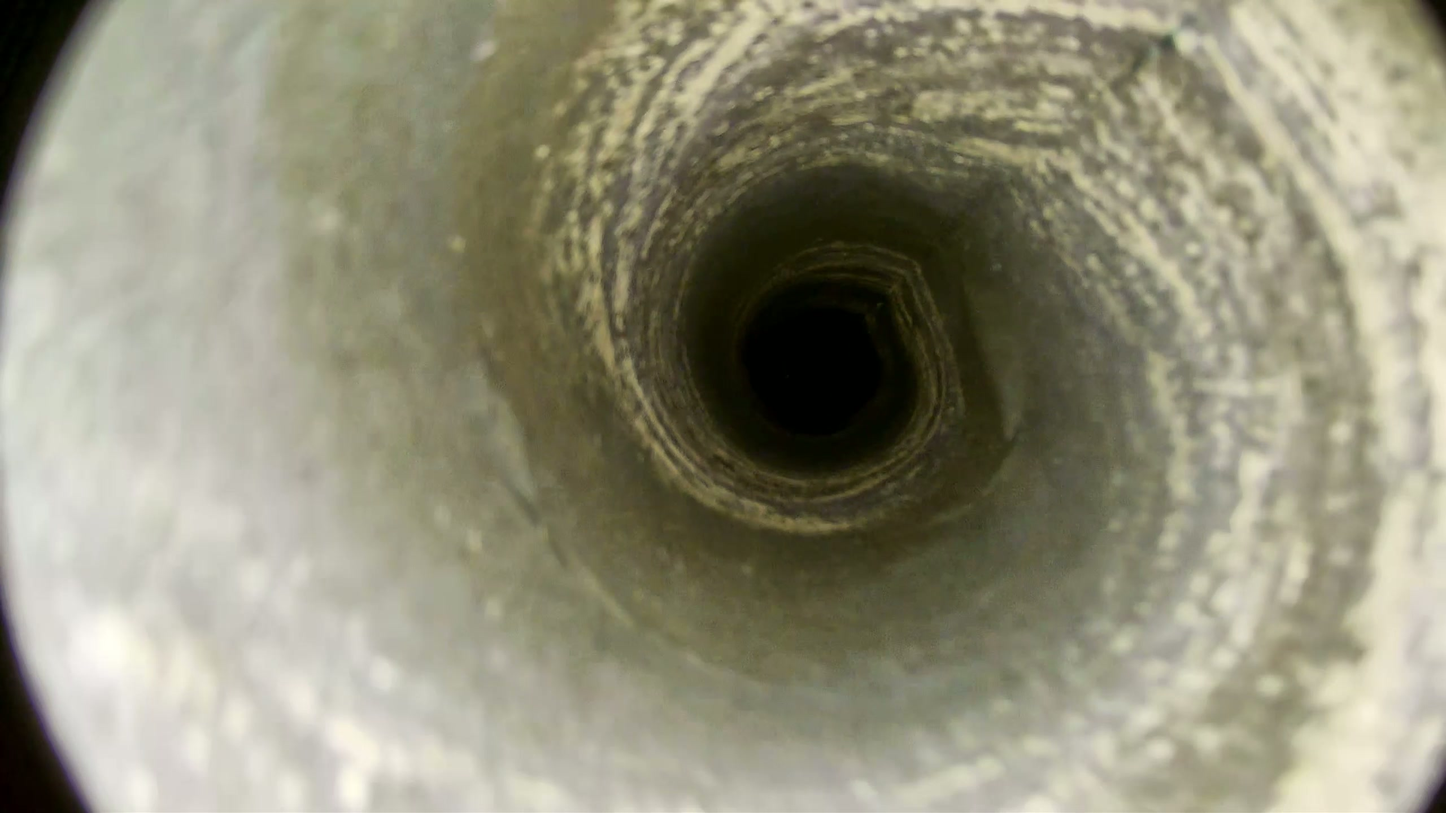hole: (753, 309, 880, 434)
